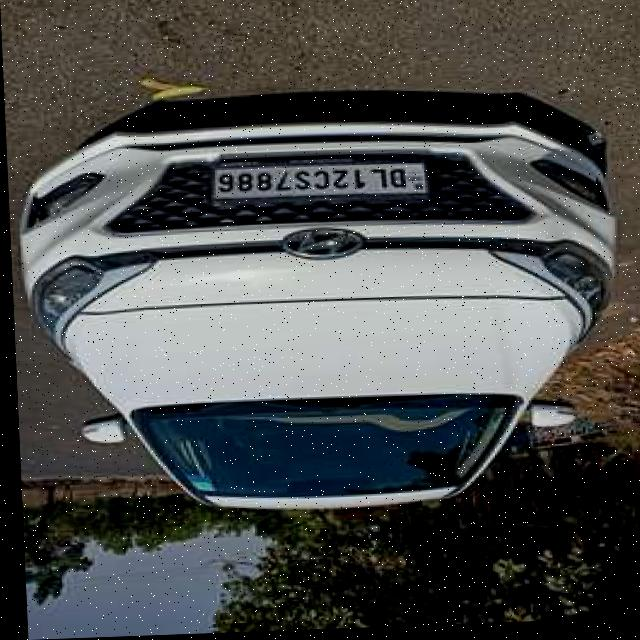plate: (210, 161, 431, 207)
